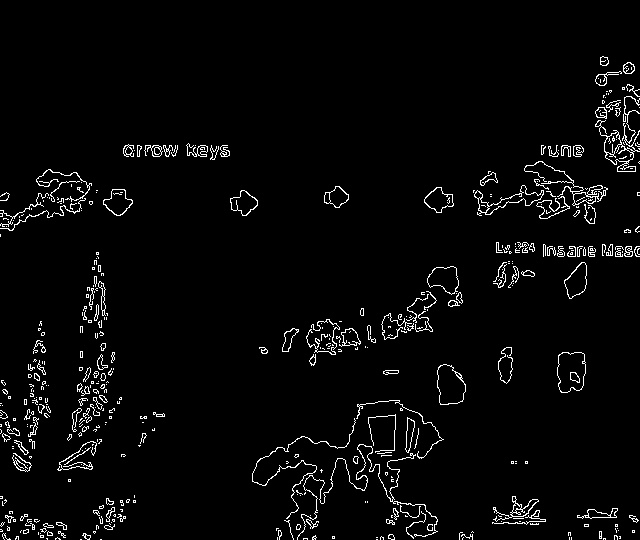down: (97, 180, 144, 225)
left: (417, 180, 458, 221)
right: (222, 183, 266, 223), (317, 180, 359, 219)
